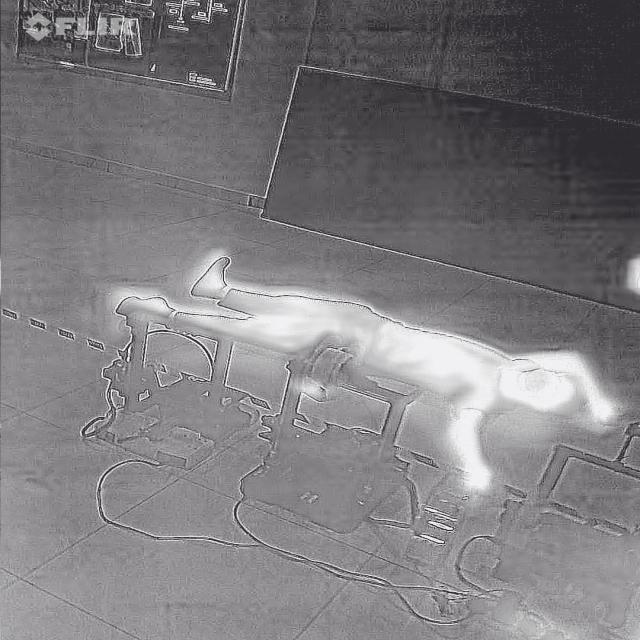Victim: (112, 247, 626, 501)
